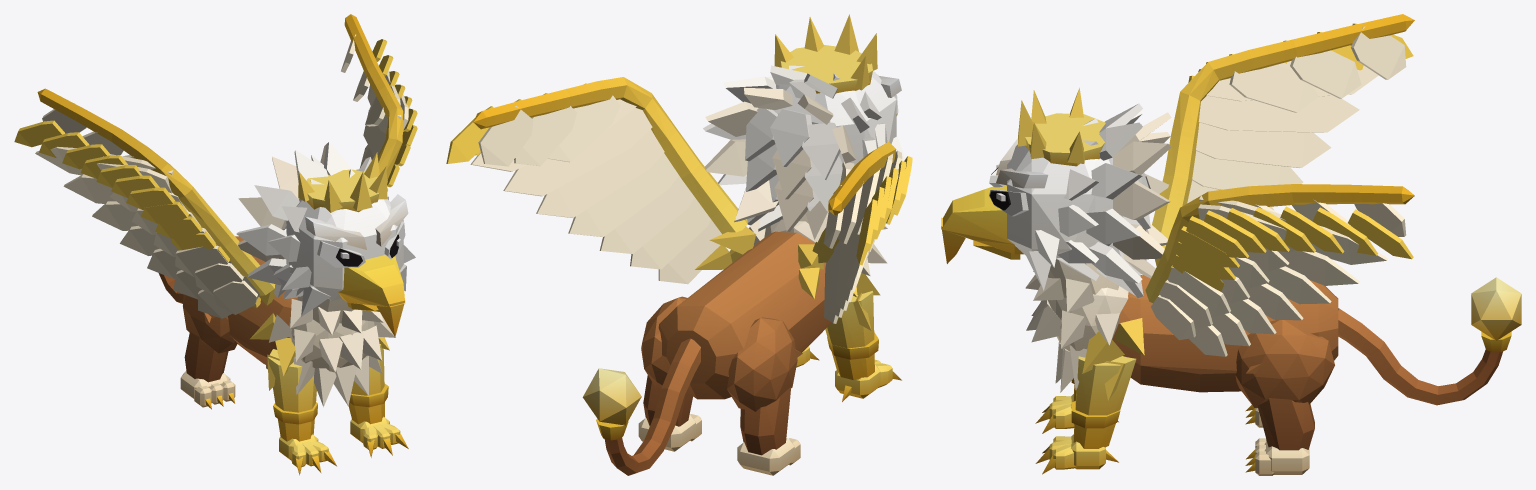
The model's file is GloveGodGriffin.glb.
The picture shows the model from 3 angles, left to right: view 1: azimuth 30°, elevation 25°; view 2: azimuth 150°, elevation 25°; view 3: azimuth 270°, elevation 25°; orthographic projection. The views are drawn at different scales.
Parts seen in each view (by area): view 1: GloveGodGriffin; view 2: GloveGodGriffin; view 3: GloveGodGriffin.
Boxes of the visible parts, x1,y1,x2,y2 form: GloveGodGriffin: [14, 14, 417, 475]; GloveGodGriffin: [446, 14, 912, 475]; GloveGodGriffin: [941, 14, 1521, 475].
Bounding box in the file's own units: 1.47 × 1.15 × 1.76.
Materials: 1 (1 with a texture image).
